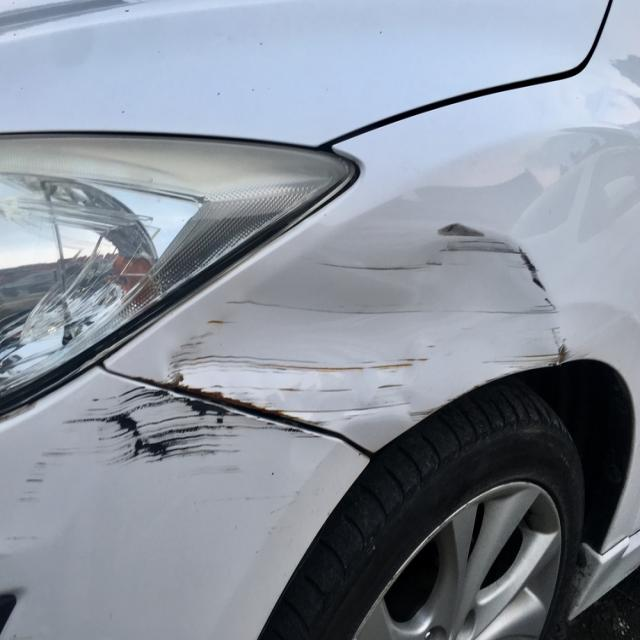dent: (165, 221, 561, 431)
scratch: (3, 381, 240, 551)
